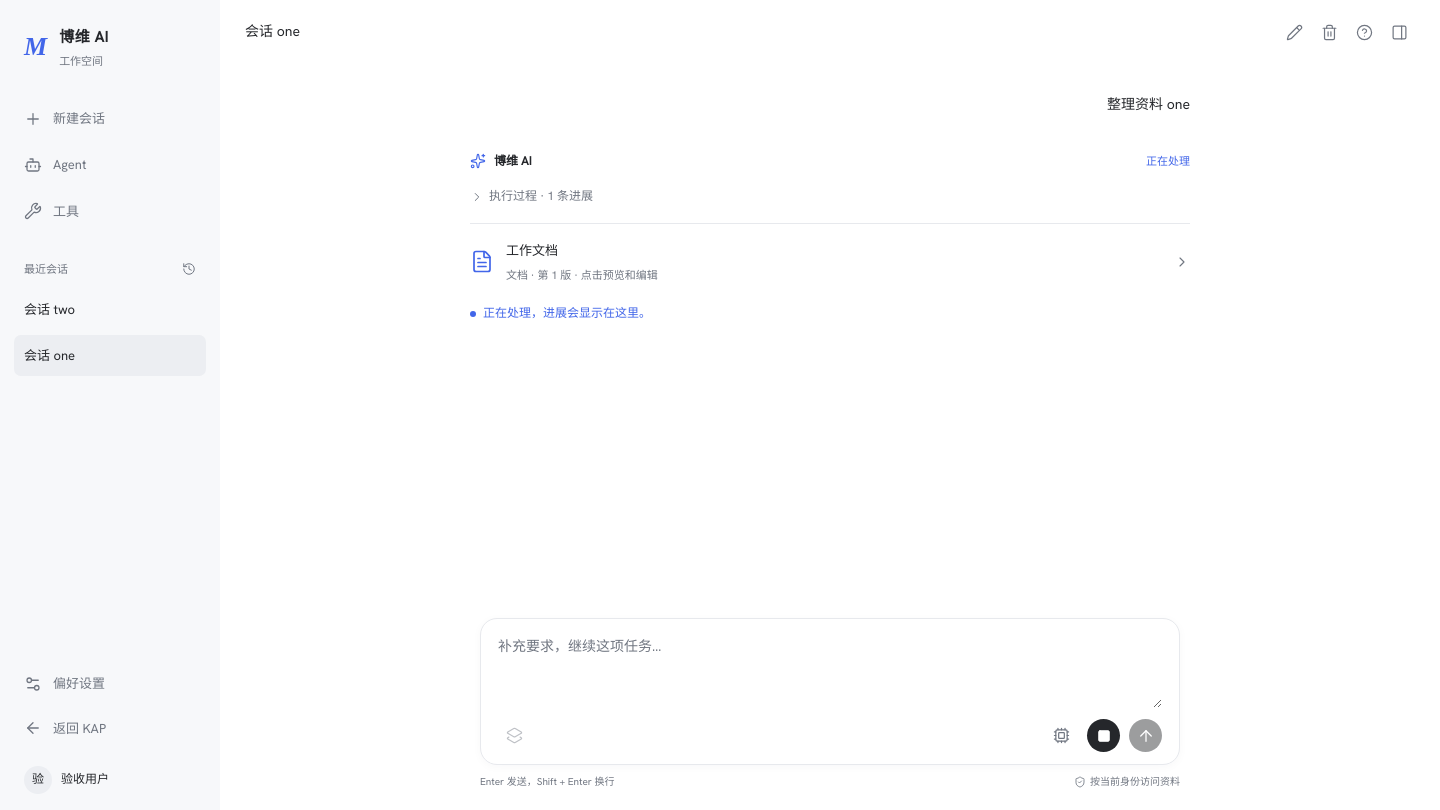
Test: AI workspace lifecycle › confirms deleting a conversation and retains it when deletion fails
This screenshot has width=1440, height=810.
What coordinates should you click on to do the following:
click the button named "删除会话"
I would click on:
 (1329, 32)
Its box is [1313,16,1345,48].
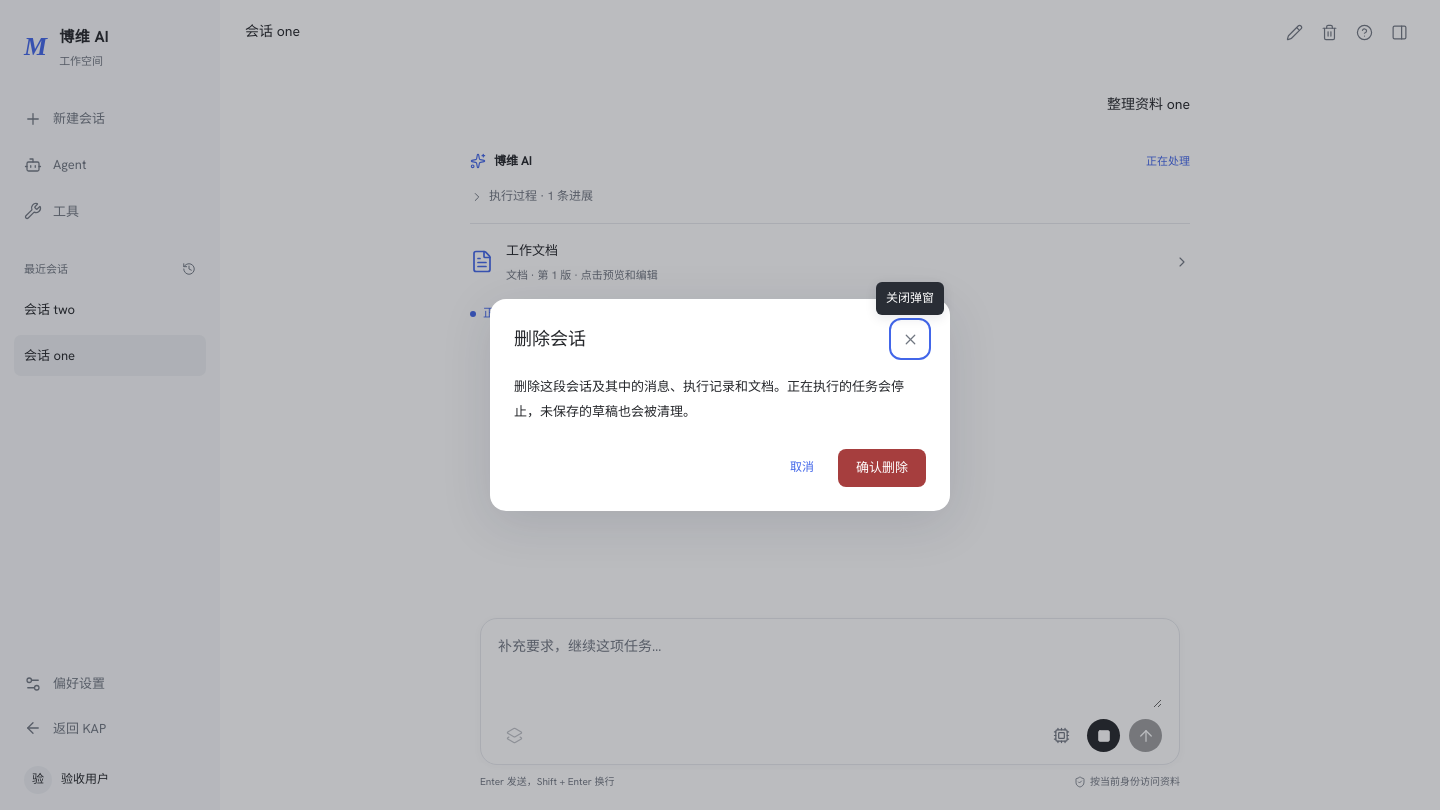
What coordinates should you click on to do the following:
click the button "确认删除"
I would click on:
 (882, 468)
Its box is [838,450,926,487].
Wait 1 ms
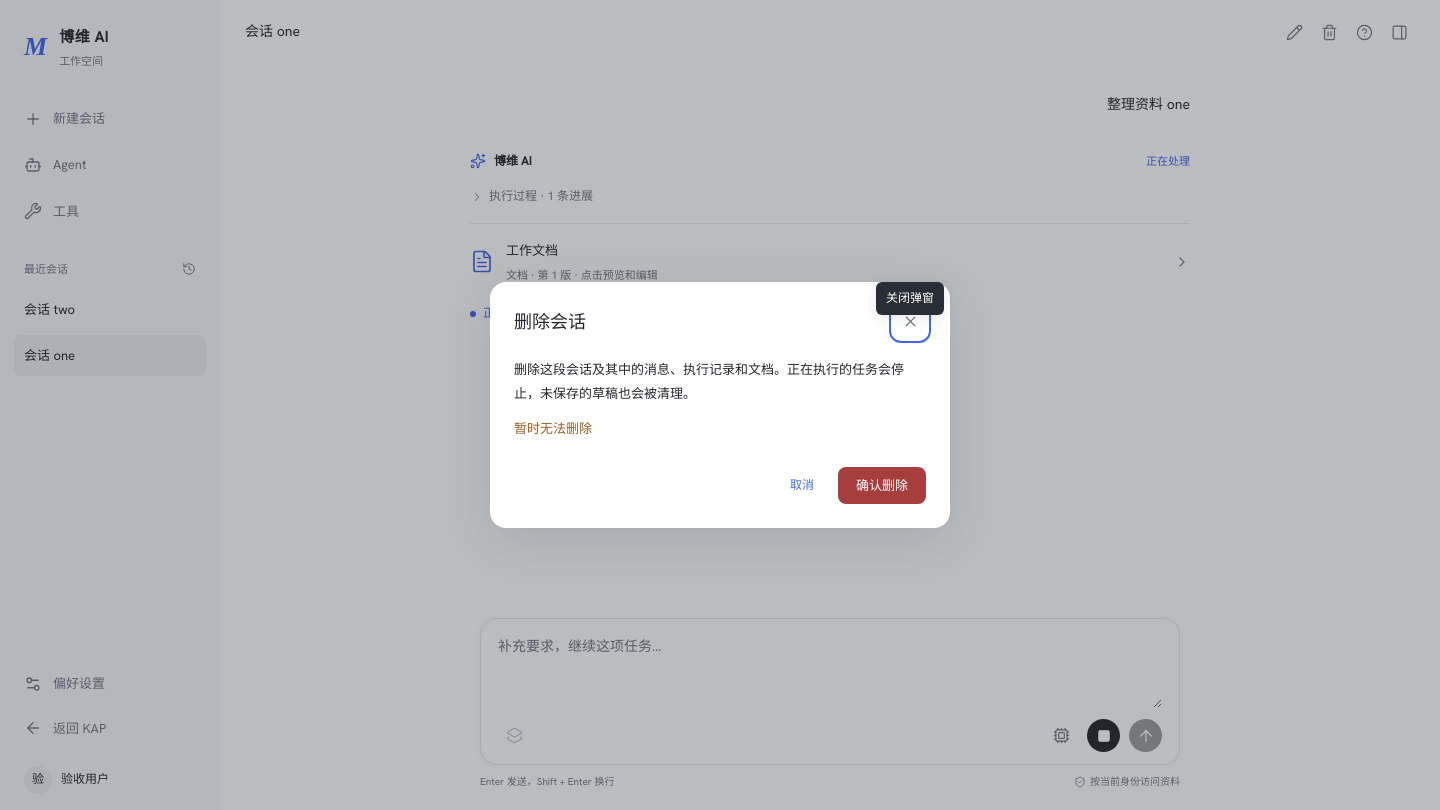
Expected: the text "整理资料 one" is shown, [1107,95,1190,113]
Expected: the message reads "暂时无法删除", [514,420,592,437]
